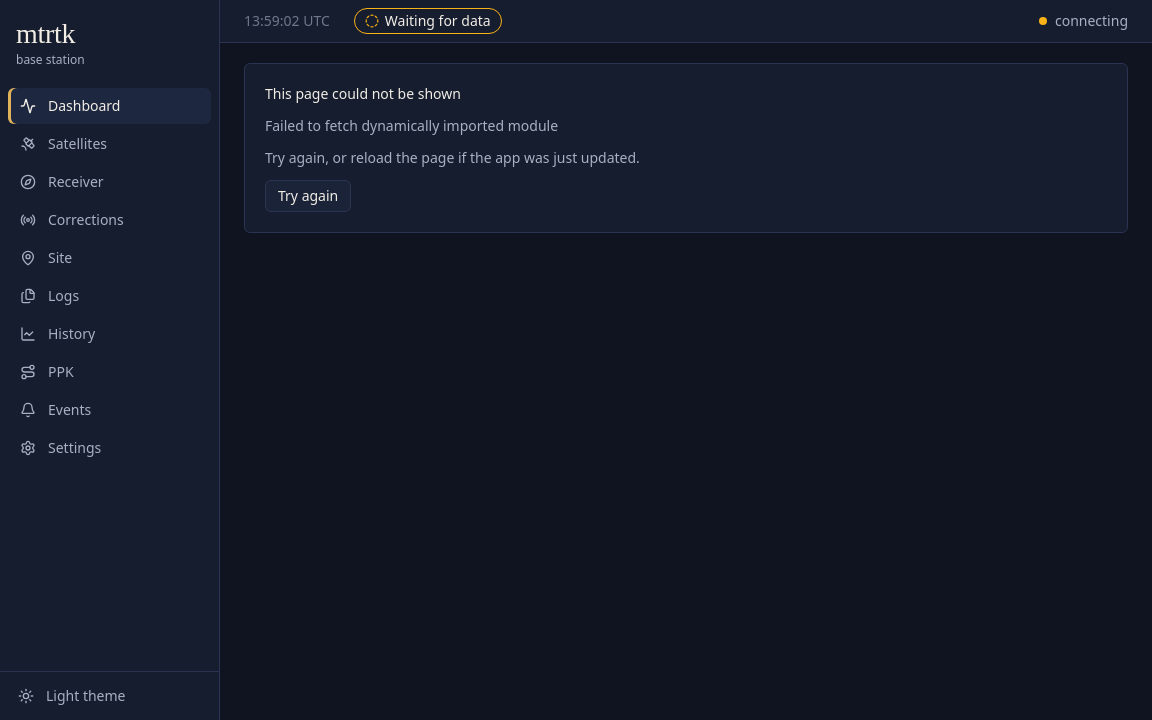
Scenario: Shell › keeps the rail and the tape when a page fails to render, and can render it again
Expected: the navigation bar named "Main" is shown, 0,0 -> 220,719
Expected: the element named "Live status" is shown, 220,0 -> 1151,43
Click the button "Try again": (308, 196) 265,180 -> 351,212
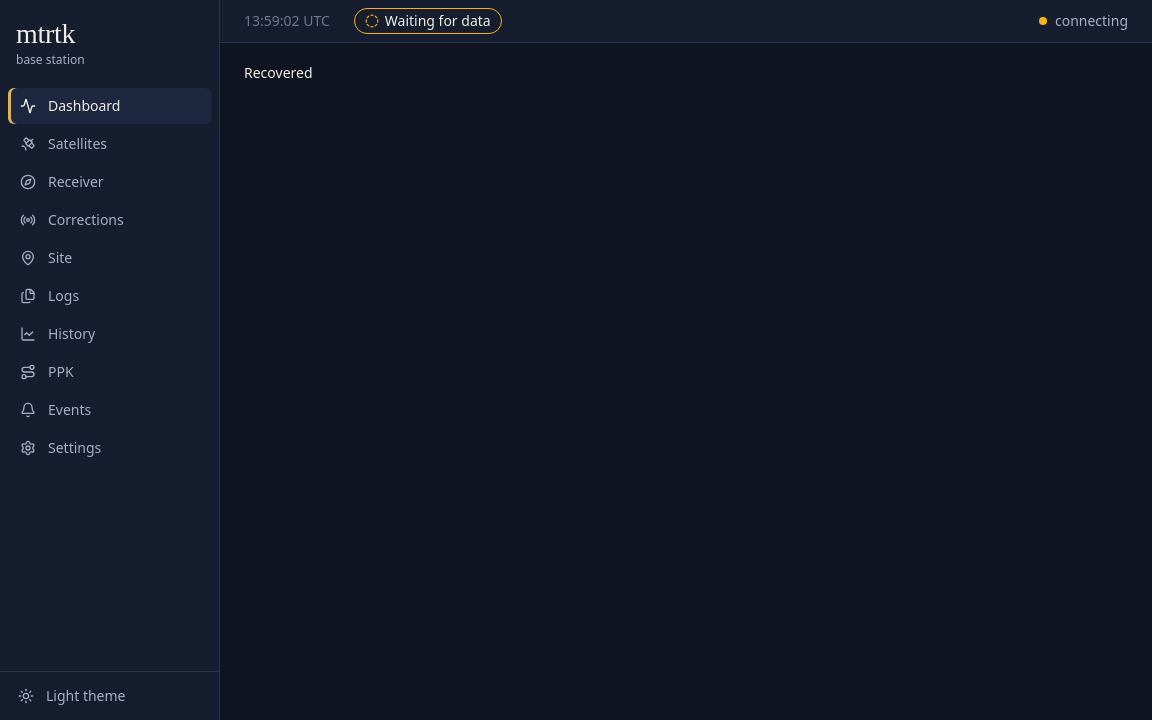
Expected: the heading reads "Recovered", 244,63 -> 312,82
